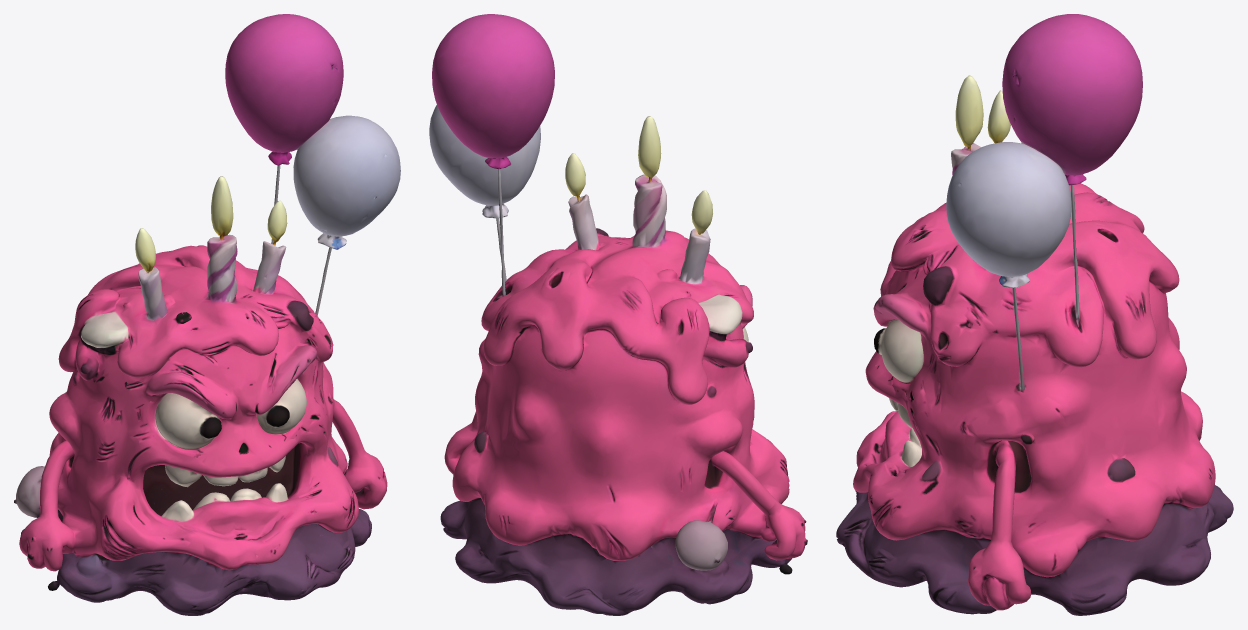
The model's file is the_birthday_blob.glb.
The picture shows the model from 3 angles, left to right: view 1: azimuth 30°, elevation 25°; view 2: azimuth 150°, elevation 25°; view 3: azimuth 270°, elevation 25°; orthographic projection. The views are drawn at different scales.
Visible parts, largest first — view 1: the_birthday_blob; view 2: the_birthday_blob; view 3: the_birthday_blob.
Part boxes in pixels (bbox=[...]): the_birthday_blob: bbox=[14, 14, 400, 615]; the_birthday_blob: bbox=[429, 14, 807, 615]; the_birthday_blob: bbox=[836, 14, 1233, 615].
Size of the model in its own units: 2.59 by 3.4 by 2.11.
Materials: 1 (1 with a texture image).
